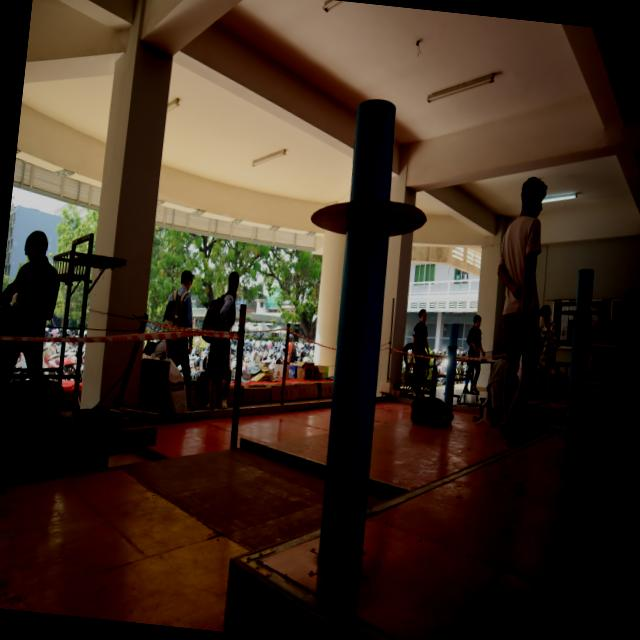pole: (299, 99, 451, 288), (544, 266, 604, 331), (439, 318, 470, 361)
